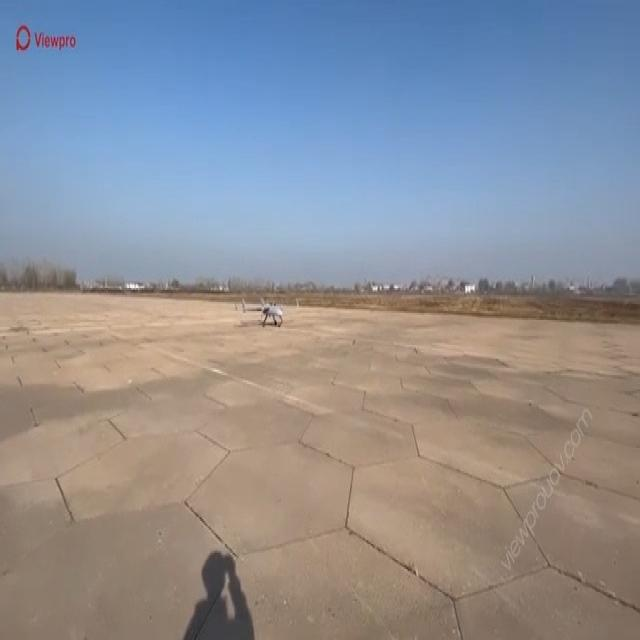drones: (236, 291, 298, 341)
